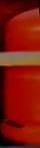cylinder: (0, 1, 40, 148)
